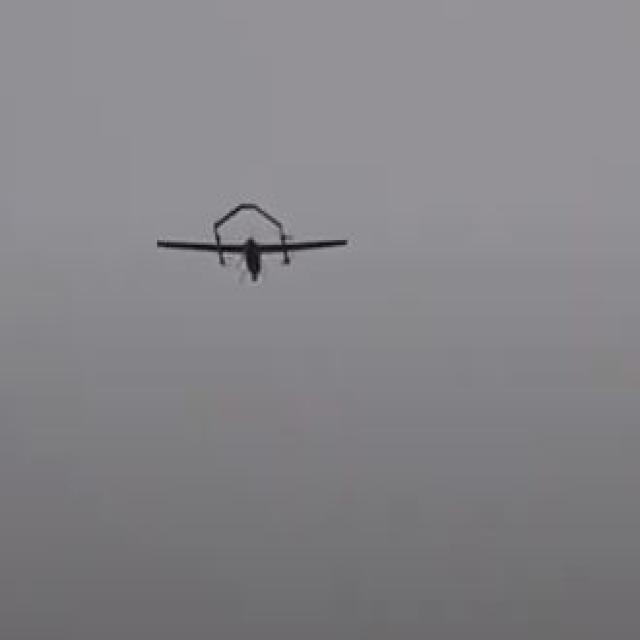iha: (156, 234, 349, 253)
